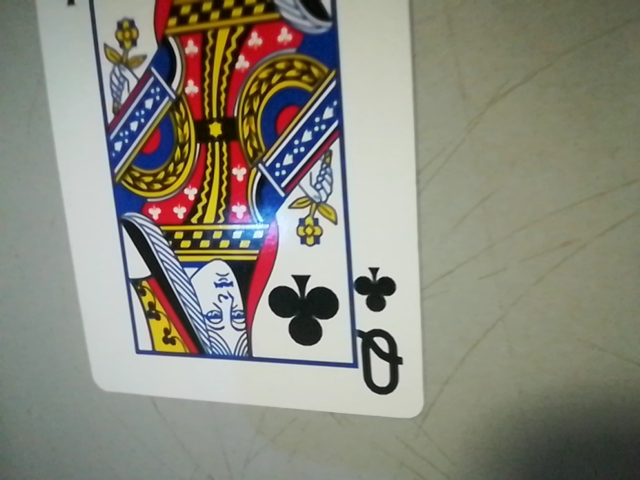mh q: (344, 256, 416, 406)
